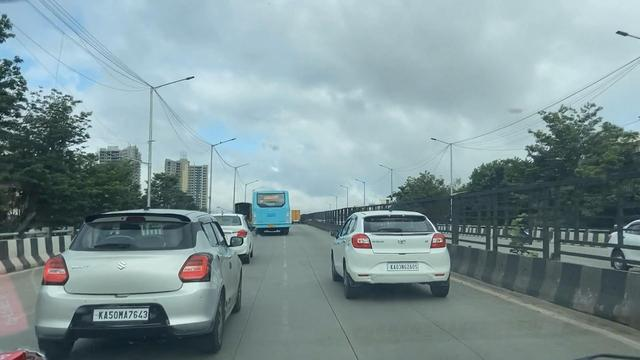HMV: (248, 179, 296, 242)
LMV: (34, 188, 245, 360), (327, 205, 461, 304)
